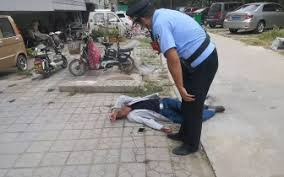fall: (101, 84, 231, 136)
